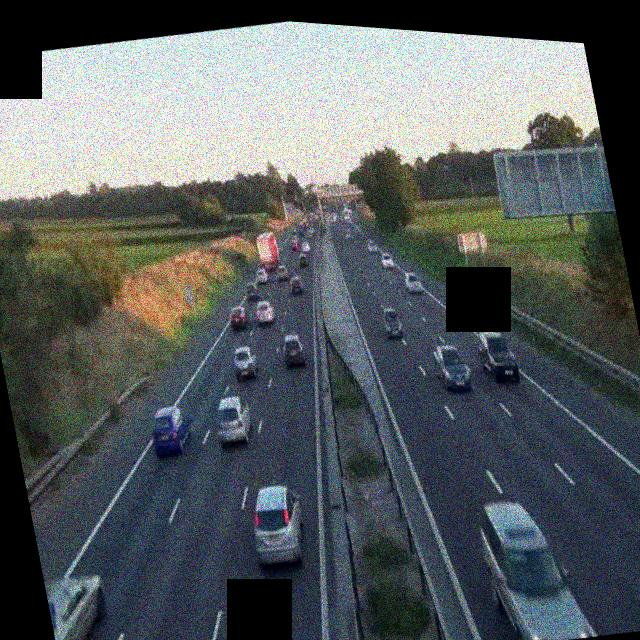car: (474, 486, 594, 640), (245, 481, 311, 572), (44, 567, 119, 640), (474, 325, 522, 388), (146, 402, 194, 460), (210, 392, 253, 449), (431, 339, 474, 396), (230, 343, 260, 381), (280, 330, 308, 368), (381, 305, 404, 339), (253, 297, 275, 326), (228, 303, 250, 330), (404, 269, 424, 297), (288, 274, 304, 295), (378, 251, 394, 271), (243, 281, 258, 302), (254, 265, 270, 284), (367, 238, 379, 255), (298, 251, 310, 267), (344, 228, 354, 240)
truck: (254, 229, 282, 274)
